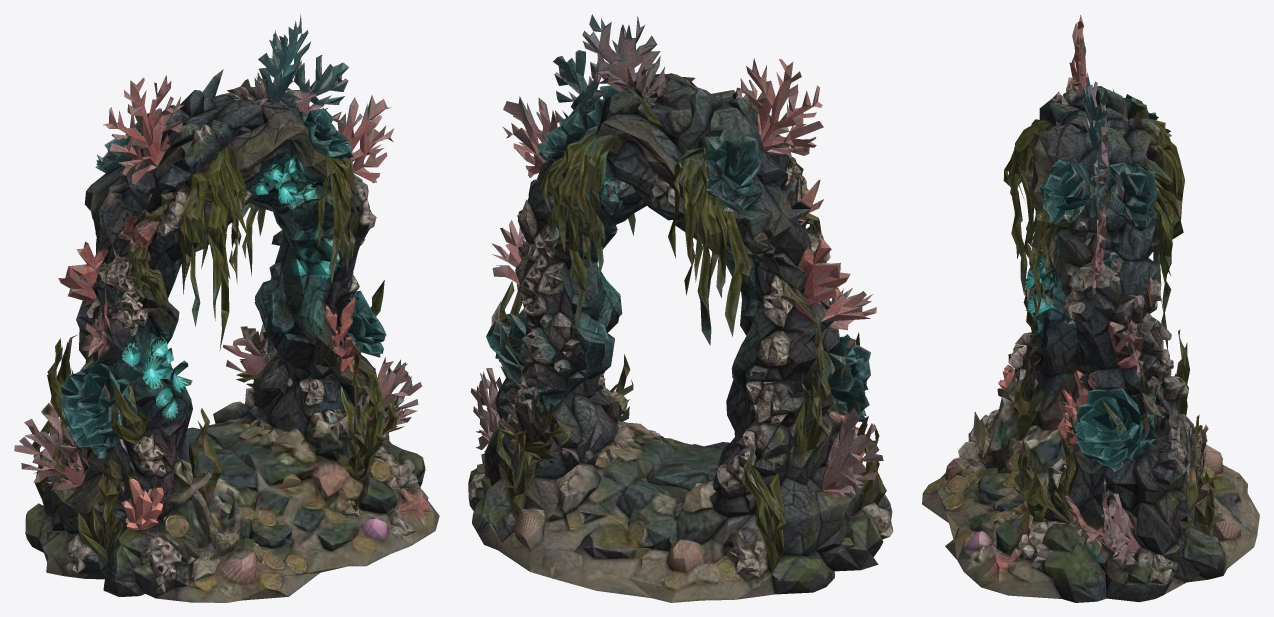
File: model.opt.c.glb
3 renders of one model, left to right at view 1: azimuth 30°, elevation 25°; view 2: azimuth 150°, elevation 25°; view 3: azimuth 270°, elevation 25°, orthographic. The views are drawn at different scales.
Visible parts, largest first — view 1: Mesh_0; view 2: Mesh_0; view 3: Mesh_0.
Part boxes in pixels (bbox=[...]): Mesh_0: bbox=[14, 14, 439, 602]; Mesh_0: bbox=[468, 14, 893, 602]; Mesh_0: bbox=[922, 15, 1259, 602].
Bounding box in the file's own units: 1.66 × 1.9 × 1.25.
Materials: 1 (1 with a texture image).
